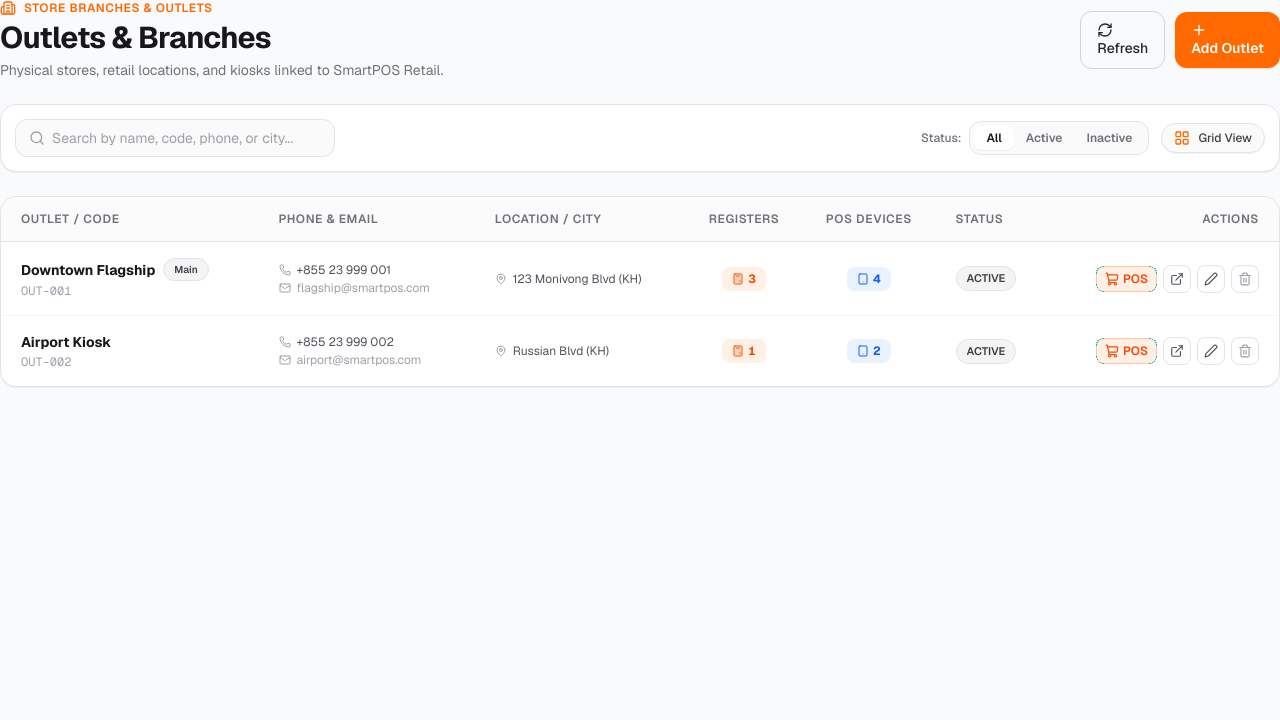
Test case: BusinessOutletsPage Component › opens create modal with 'Main Outlet' checkbox
Expected: the link "Downtown Flagship" is shown, top-left (21, 260), bottom-right (155, 280)
Click the button "Add Outlet" at (1228, 40), box top-left (1175, 12), bottom-right (1279, 68)
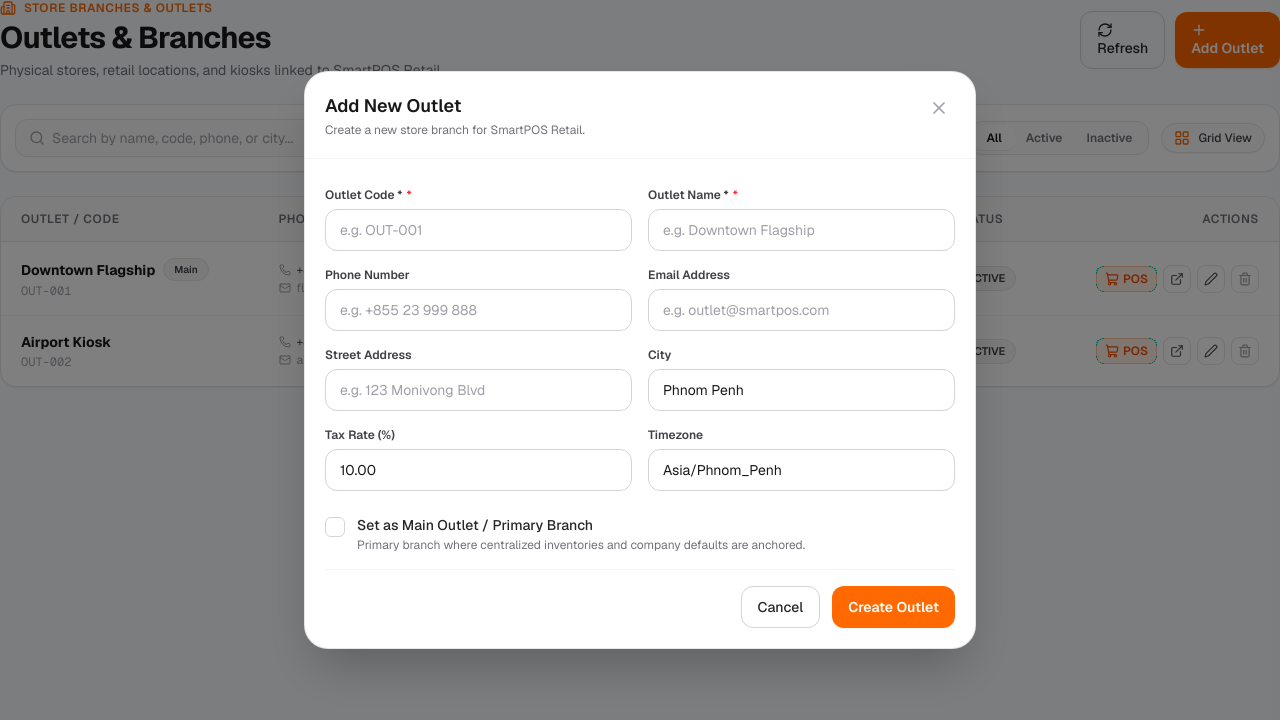
Result: the text "Add New Outlet" is shown at top-left (325, 94), bottom-right (461, 117)
Result: the checkbox labelled "Set as Main Outlet" is shown at top-left (325, 515), bottom-right (805, 553)
